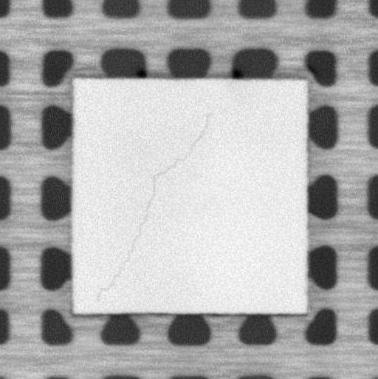DIE_CRACK: (95, 112, 210, 302)
